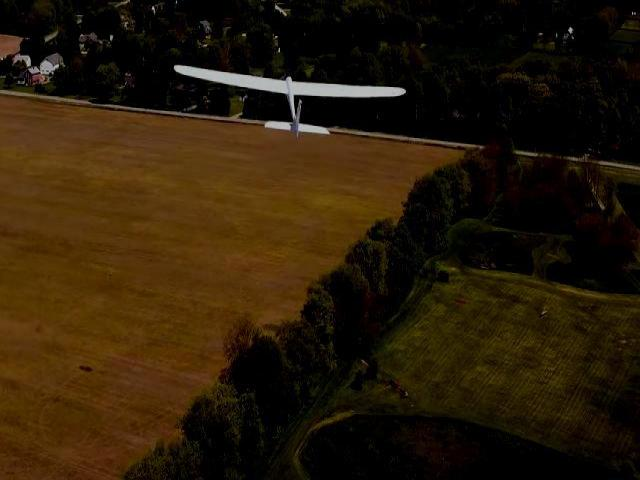iha: (173, 56, 406, 137)
